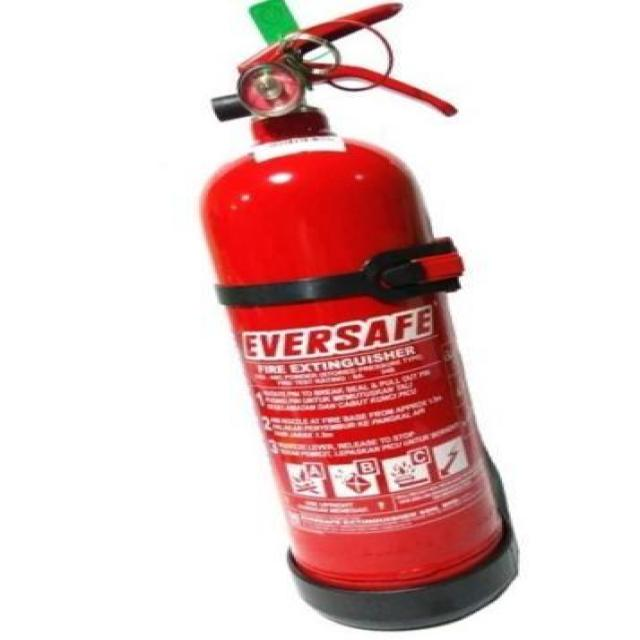fire_extinguisher: (188, 0, 522, 632)
